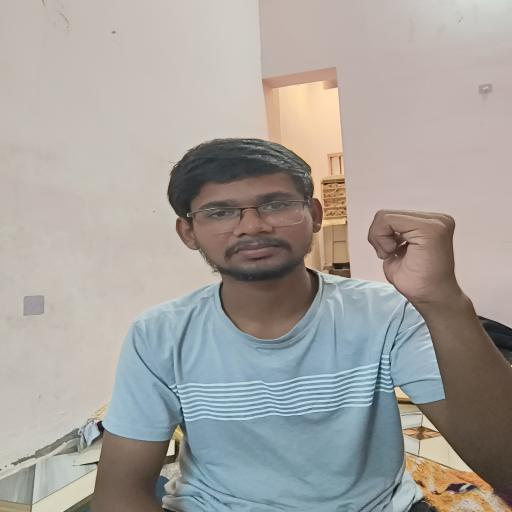wait: (350, 193, 497, 326)
